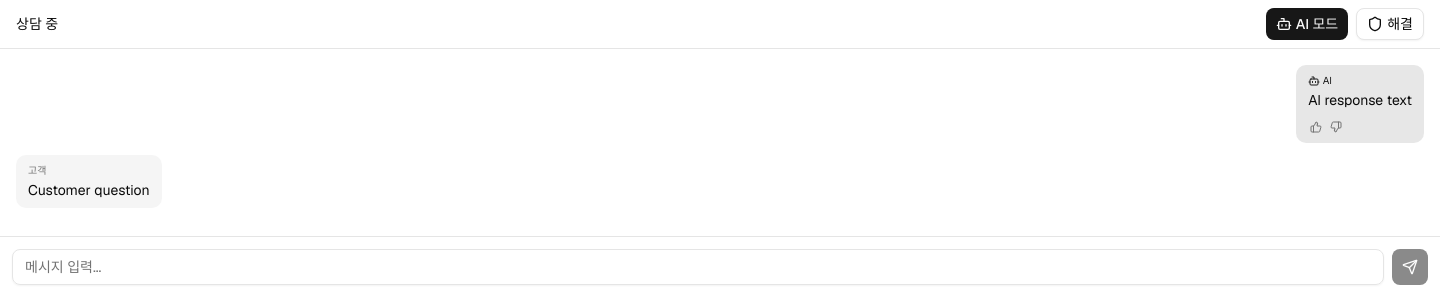
Test case: ChatWindow AI Feedback › shows thanks message after feedback
The image size is (1440, 302).
Click the button titled "도움이 안 됨" at (1336, 127), box [1328,119,1344,135]
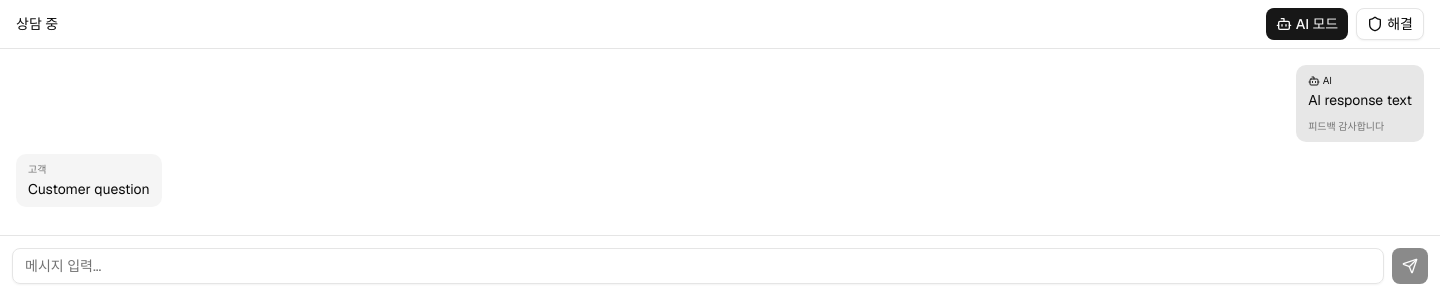
Expected: the text "피드백 감사합니다" is shown, [1308,119,1384,134]
